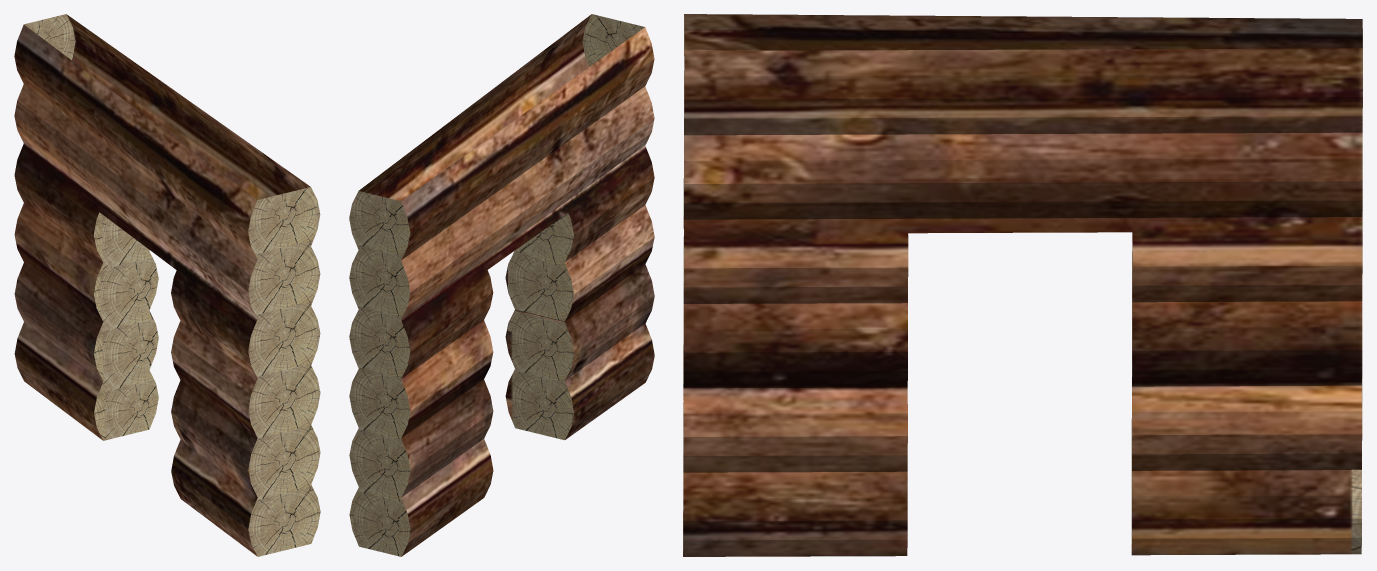
Rendered from cabin.fbx.
3 views of the same model, side by side, from view 1: azimuth 30°, elevation 25°; view 2: azimuth 150°, elevation 25°; view 3: azimuth 270°, elevation 25° (orthographic). The views are drawn at different scales.
Visible parts, largest first — view 1: Plane.002; view 2: Plane.002; view 3: Plane.002.
Boxes of the visible parts, x1,y1,x2,y2 form: Plane.002: (14,14,320,556); Plane.002: (349,14,654,556); Plane.002: (683,14,1362,556).
Bounding box in the file's own units: 194 × 915 × 1112.
